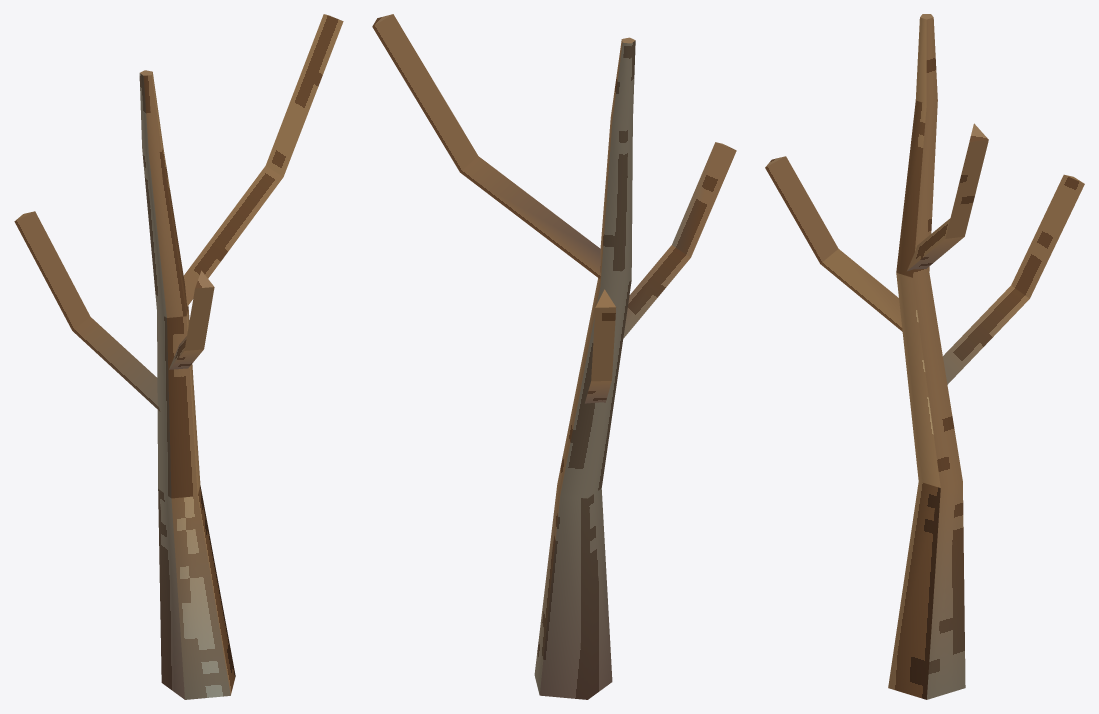
File: wland.dead_tree__small.glb
The picture shows the model from 3 angles, left to right: view 1: azimuth 30°, elevation 25°; view 2: azimuth 150°, elevation 25°; view 3: azimuth 270°, elevation 25°; orthographic projection. The views are drawn at different scales.
Parts seen in each view (by area): view 1: kit_trunk, kit_branches; view 2: kit_trunk, kit_branches; view 3: kit_trunk, kit_branches.
Boxes of the visible parts, x1=… form: kit_trunk: x1=139, y1=70, x2=235, y2=699; kit_branches: x1=14, y1=14, x2=343, y2=411; kit_trunk: x1=534, y1=37, x2=635, y2=699; kit_branches: x1=372, y1=14, x2=736, y2=403; kit_trunk: x1=888, y1=14, x2=965, y2=699; kit_branches: x1=765, y1=123, x2=1084, y2=384.
Bounding box in the file's own units: 1.17 × 2.52 × 1.14.
1 material, 1 textured.
